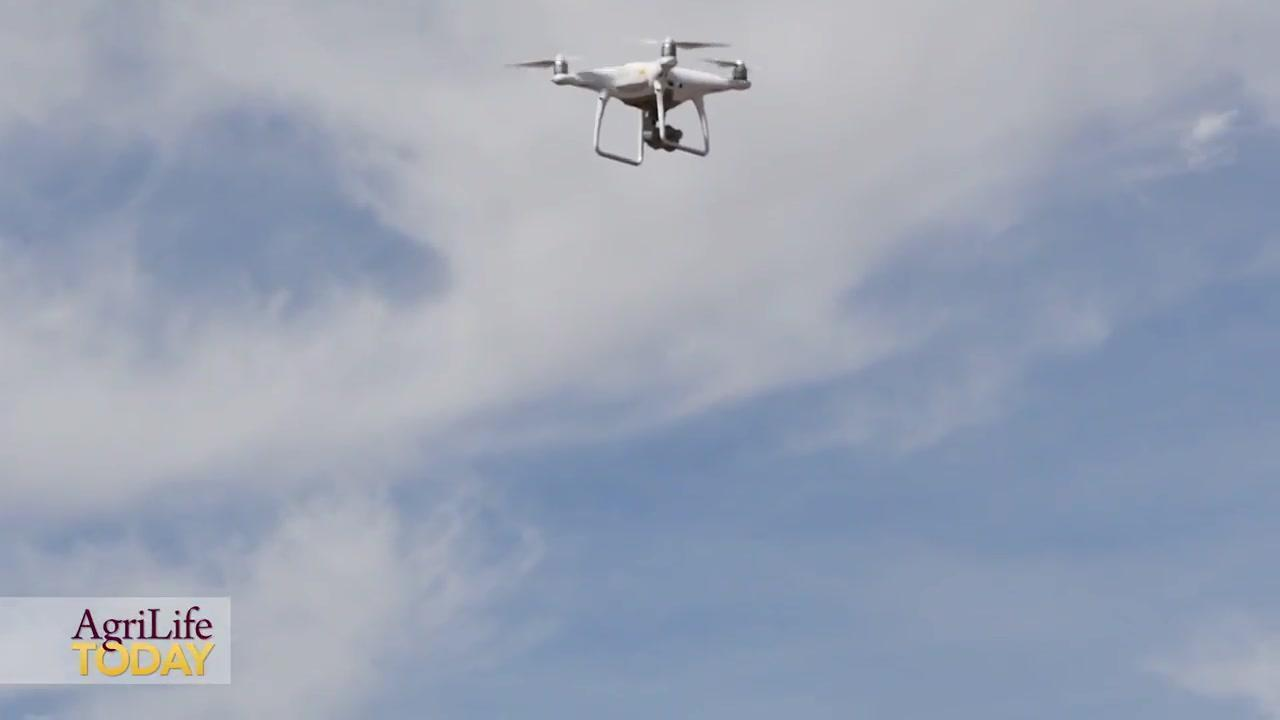UAV: (503, 38, 753, 168)
